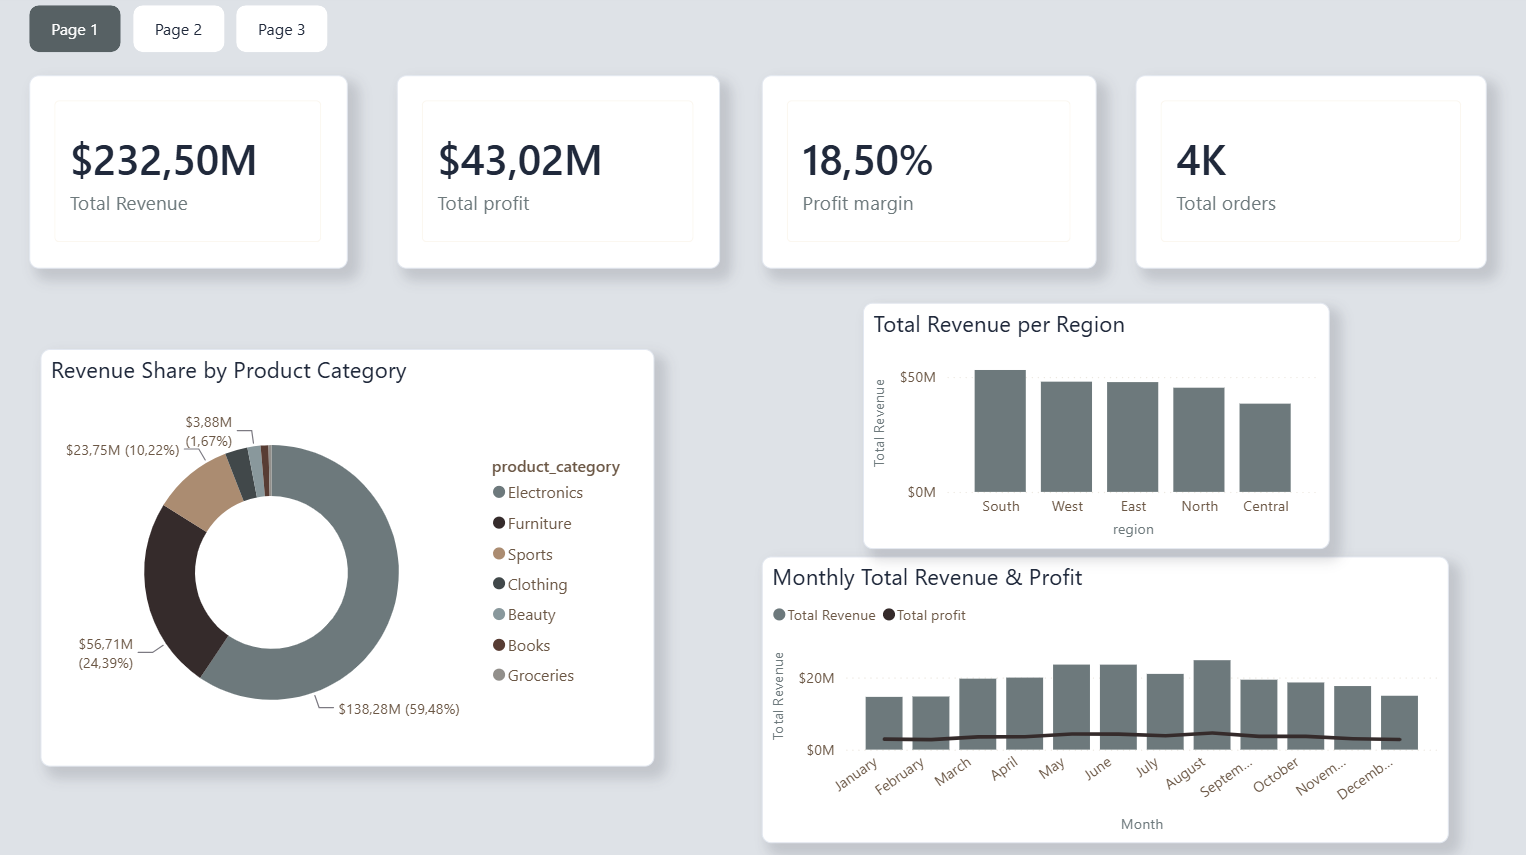

The page's visual inventory and layout, read from the dashboard file:
{"tool":"powerbi","page":{"name":"Page 1","canvas":[1280,720],"ordinal":0},"visuals":[{"type":"cardVisual","fields":{"Data":["_Measures.Total Revenue"]},"box":[30.2,68,264.8,160.5],"z":0},{"type":"cardVisual","fields":{"Data":["_Measures.Total orders"]},"box":[949.6,68,292.3,160.5],"z":1000},{"type":"cardVisual","fields":{"Data":["_Measures.Profit margin"]},"box":[639.5,68,278.6,160.5],"z":2000},{"type":"cardVisual","fields":{"Data":["_Measures.Total profit"]},"box":[336.2,68,269,160.5],"z":3000},{"type":"lineStackedColumnComboChart","title":"Monthly Total Revenue & Profit ","fields":{"Category":["public retail_sales_cleaned.order_date.Variation.Date Hierarchy.Year","public retail_sales_cleaned.order_date.Variation.Date Hierarchy.Quarter","public retail_sales_cleaned.order_date.Variation.Date Hierarchy.Month","public retail_sales_cleaned.order_date.Variation.Date Hierarchy.Day"],"Y":["_Measures.Total Revenue"],"Y2":["_Measures.Total profit"]},"box":[639.5,467.9,570.8,238.8],"z":4000},{"type":"donutChart","title":"Revenue Share by Product Category","fields":{"Y":["_Measures.Total Revenue"],"Category":["public retail_sales_cleaned.product_category"]},"box":[39.8,295,510.5,347.2],"z":5000},{"type":"clusteredColumnChart","title":"Total Revenue per Region","fields":{"Category":["public retail_sales_cleaned.region"],"Y":["_Measures.Total Revenue"]},"box":[723.2,256.6,388.3,204.5],"z":6000},{"type":"pageNavigator","box":[30.2,9.6,249.7,39.8],"z":6001}]}

Visuals, with their boxes in screenshot pixels (x1, y1, x2, y2), scaled from the page's 1280x720 canvas onto the 1526x855 screenshot:
cardVisual - _Measures.Total Revenue: x1=36 y1=81 x2=352 y2=271
cardVisual - _Measures.Total orders: x1=1132 y1=81 x2=1481 y2=271
cardVisual - _Measures.Profit margin: x1=762 y1=81 x2=1095 y2=271
cardVisual - _Measures.Total profit: x1=401 y1=81 x2=722 y2=271
"Monthly Total Revenue & Profit " lineStackedColumnComboChart: x1=762 y1=556 x2=1443 y2=839
"Revenue Share by Product Category" donutChart: x1=47 y1=350 x2=656 y2=763
"Total Revenue per Region" clusteredColumnChart: x1=862 y1=305 x2=1325 y2=548
pageNavigator: x1=36 y1=11 x2=334 y2=59
